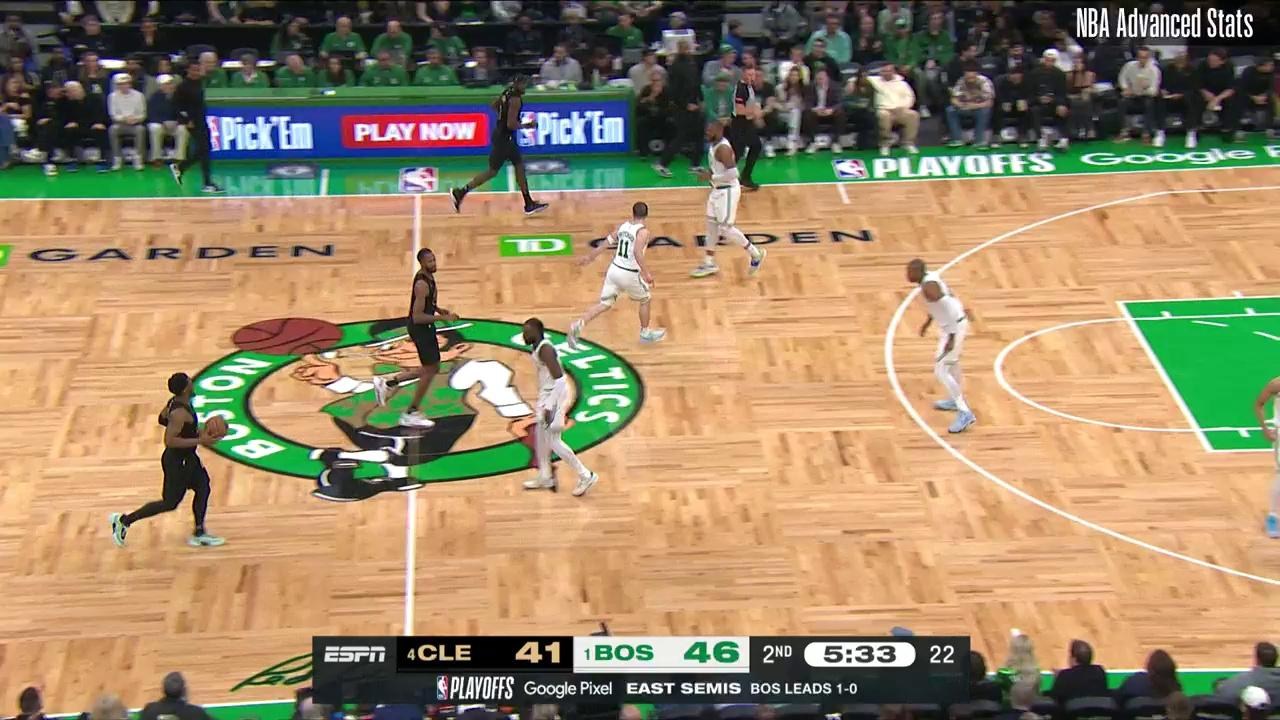free_adx: (1202, 441, 1219, 458)
free_asx: (1108, 293, 1132, 314)
half_sx: (407, 186, 430, 203)
mid_dx: (1006, 618, 1023, 634)
mid_sx: (839, 196, 856, 210)
referee: (717, 66, 765, 188)
team: (567, 199, 666, 347), (520, 318, 600, 498), (908, 258, 979, 432), (692, 123, 766, 279)
team1: (111, 371, 229, 550), (374, 247, 458, 426), (448, 73, 552, 217)
timer: (813, 637, 901, 672)
